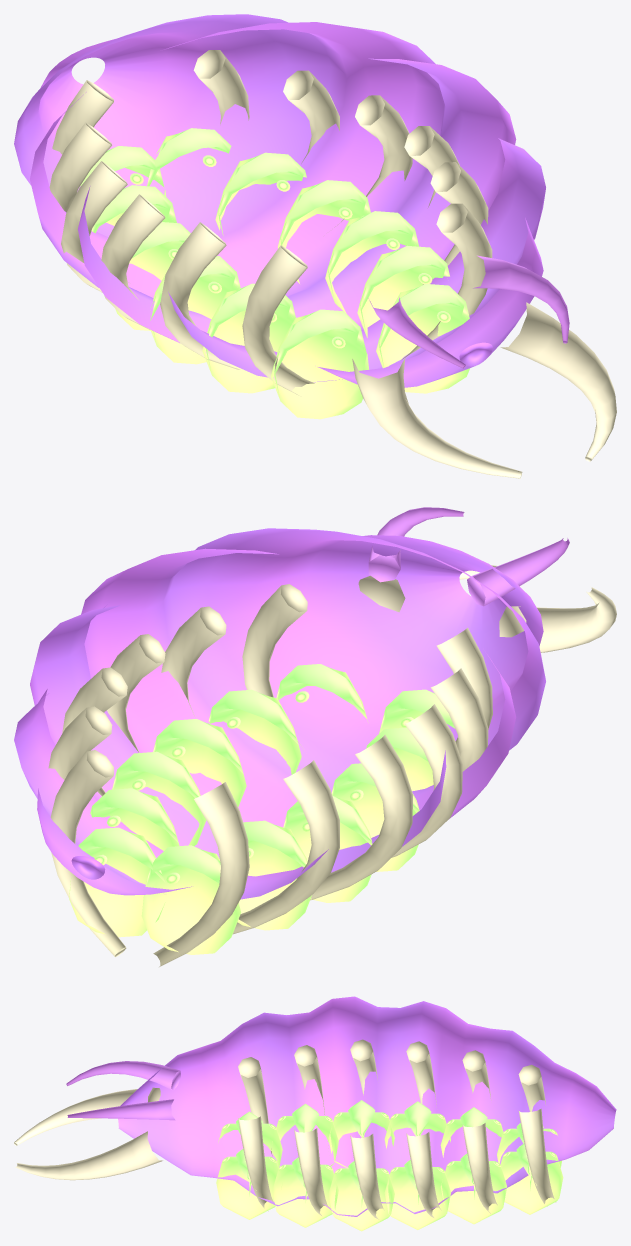
The model's file is zerg_leviathan.glb.
The picture shows the model from 3 angles, top to bottom: view 1: azimuth 30°, elevation 25°; view 2: azimuth 150°, elevation 25°; view 3: azimuth 270°, elevation 25°; orthographic projection. The views are drawn at different scales.
Parts seen in each view (by area): view 1: zerg_leviathan; view 2: zerg_leviathan; view 3: zerg_leviathan.
Boxes of the visible parts, <box> form: zerg_leviathan: <box>14,14,616,478</box>; zerg_leviathan: <box>14,507,616,966</box>; zerg_leviathan: <box>14,996,616,1231</box>.
Size of the model in its own units: 2.03 by 1.27 by 3.87.
